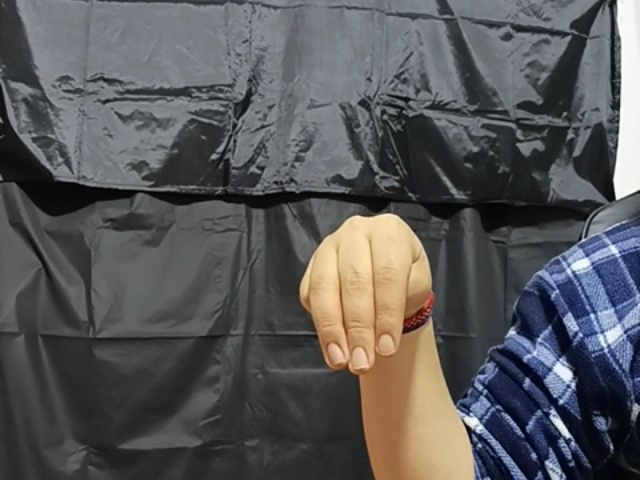M: (307, 206, 443, 379)
